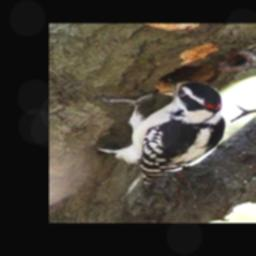Woodpecker: (97, 76, 226, 191)
